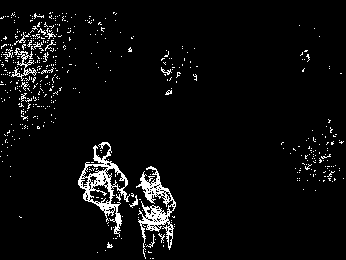person: (77, 138, 136, 255), (138, 157, 178, 260)
